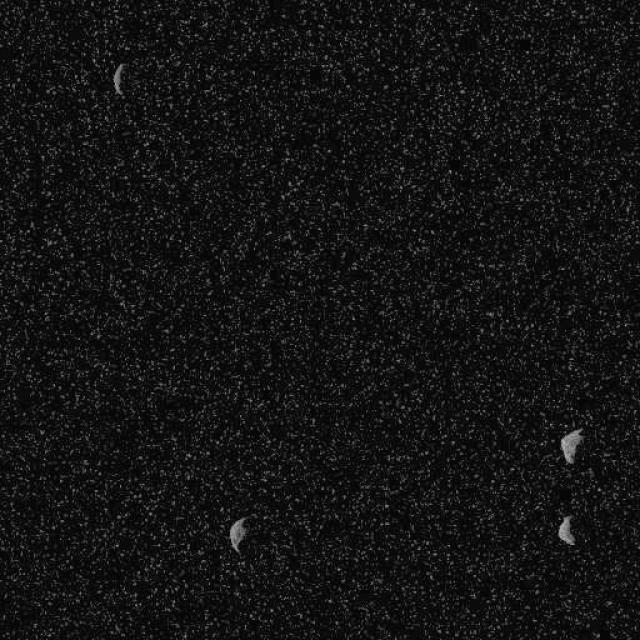D2: (558, 426, 584, 464), (228, 515, 252, 553), (556, 514, 575, 545), (111, 62, 125, 96)
